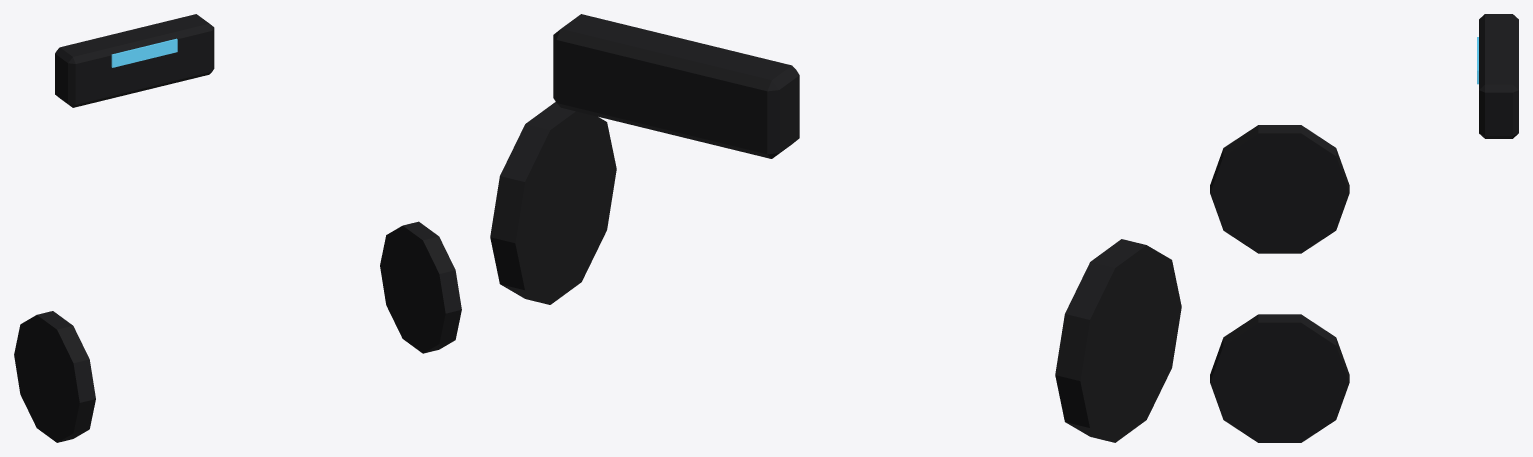
Rendered from vp_stereo.glb.
3 views of the same model, side by side, from view 1: azimuth 30°, elevation 25°; view 2: azimuth 150°, elevation 25°; view 3: azimuth 270°, elevation 25° (orthographic). The views are drawn at different scales.
Visible parts, largest first — view 1: block_unit, block_speaker-0.22500000000000003, block_speaker0.22500000000000003, block_display; view 2: block_unit, block_speaker-0.22500000000000003, block_speaker0.22500000000000003; view 3: block_speaker0.22500000000000003, block_speaker-0.22500000000000003, block_unit.
Part boxes in pixels (x1=…): block_unit: x1=55, y1=14, x2=214, y2=107; block_speaker-0.22500000000000003: x1=14, y1=311, x2=95, y2=442; block_speaker0.22500000000000003: x1=380, y1=221, x2=461, y2=353; block_display: x1=111, y1=38, x2=177, y2=67; block_unit: x1=553, y1=14, x2=799, y2=158; block_speaker-0.22500000000000003: x1=1055, y1=239, x2=1181, y2=442; block_speaker0.22500000000000003: x1=490, y1=102, x2=616, y2=304; block_speaker0.22500000000000003: x1=1210, y1=314, x2=1349, y2=442; block_speaker-0.22500000000000003: x1=1210, y1=125, x2=1349, y2=253; block_unit: x1=1479, y1=14, x2=1518, y2=138.
Size of the model in its own units: 0.47 by 0.3266 by 0.31.
2 materials, 2 textured.
